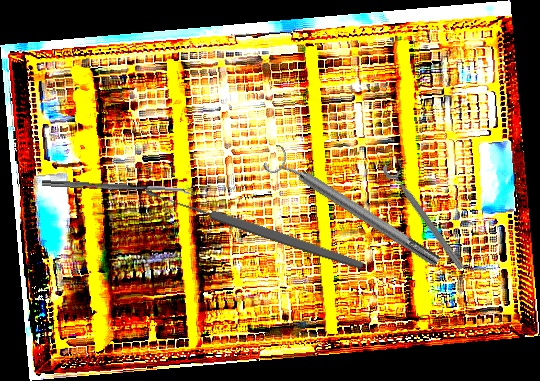Fixation Ring: (261, 141, 446, 277), (380, 156, 474, 273)
Surgical Spoon: (144, 185, 365, 272), (41, 180, 194, 195)
